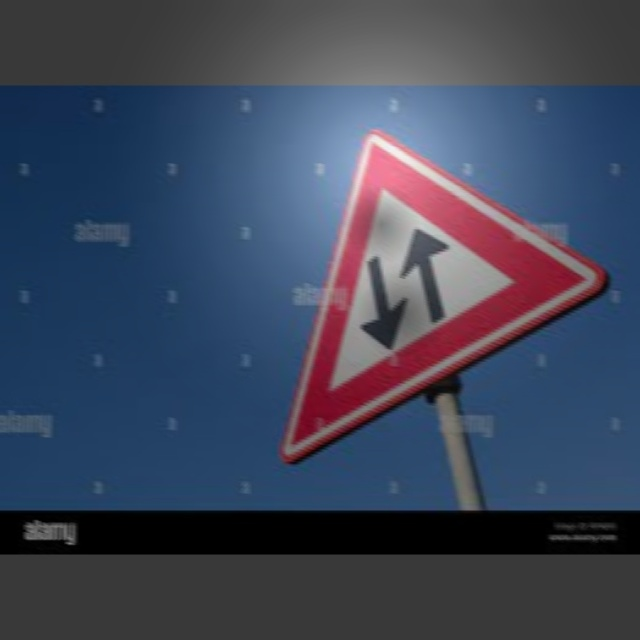Mandatory_Two_Way_Traffic: (276, 134, 597, 429)
